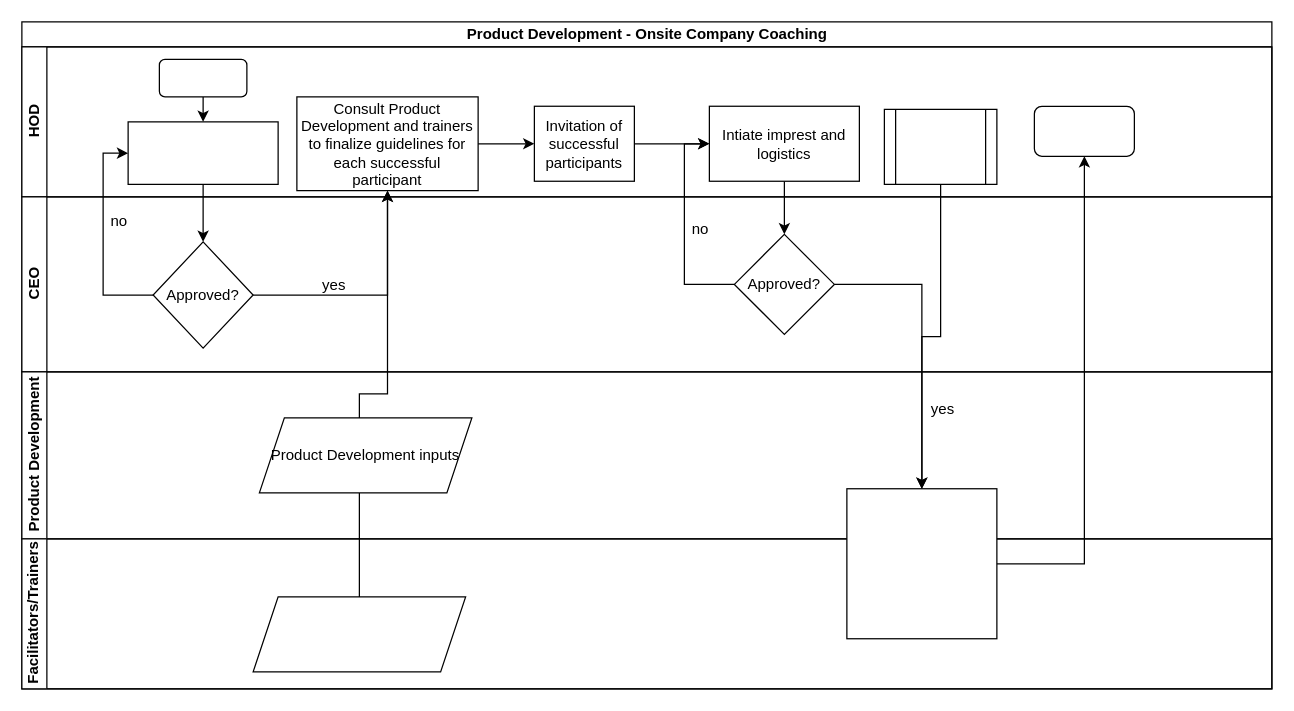
Some shapes in this 1294 by 711 pixel diagram are drawn without their labels. The shapes that lost their labels are listed below. From the top down, each one's centre as x and y in pixels, then its label:
the point at 202,77: Start
the point at 940,146: Participate in training
the point at 1083,130: End
the point at 202,152: Development of onsite company coaching schedule
the point at 921,563: Conduct on-site training per schedule
the point at 359,634: Trainers inputs
